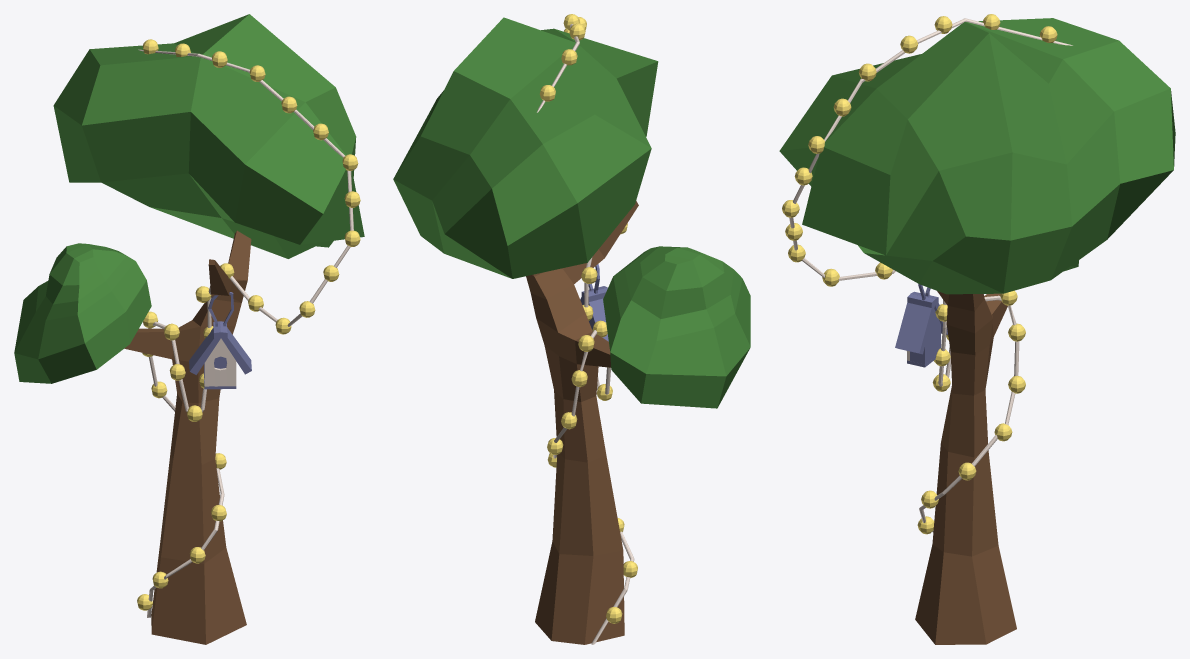
The model's file is Tree_6.fbx.
3 views of the same model, side by side, from view 1: azimuth 30°, elevation 25°; view 2: azimuth 150°, elevation 25°; view 3: azimuth 270°, elevation 25° (orthographic). The views are drawn at different scales.
Visible parts, largest first — view 1: Tree_6; view 2: Tree_6; view 3: Tree_6.
Boxes of the visible parts, x1,y1,x2,y2 form: Tree_6: (14, 14, 364, 644); Tree_6: (393, 14, 750, 644); Tree_6: (779, 14, 1175, 644).
Bounding box in the file's own units: 223 × 234 × 408.
